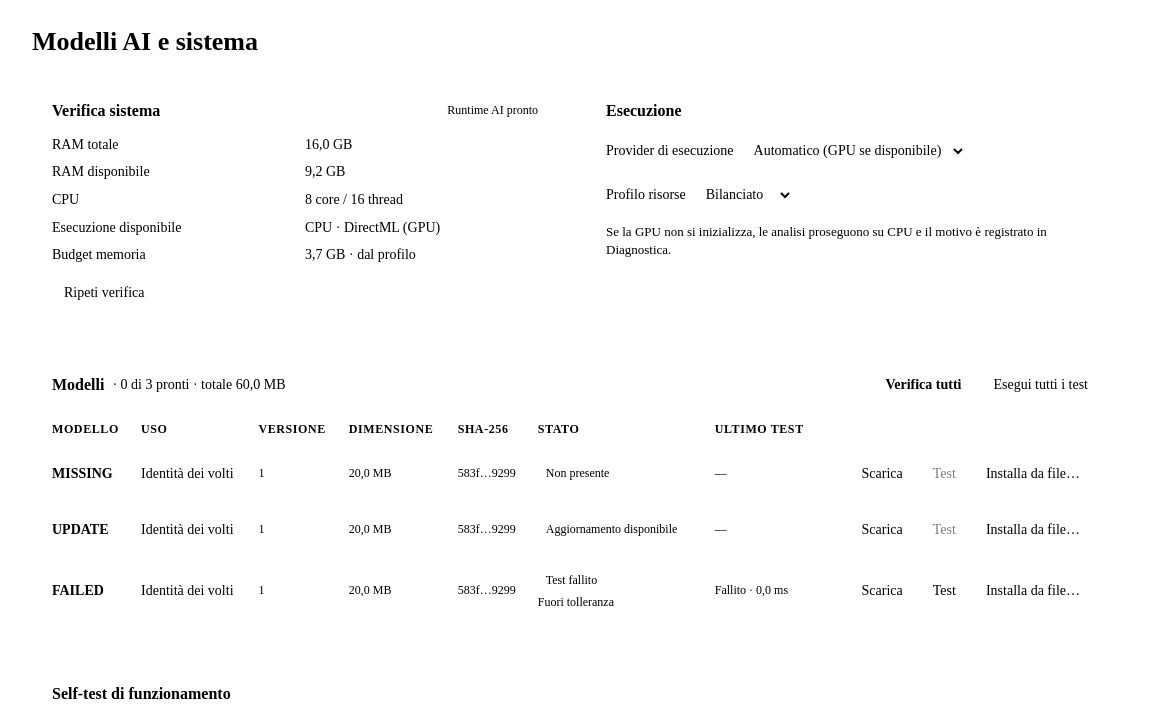
Test: Modelli AI e sistema › mostra stati mancanti, aggiornamenti e test falliti con azioni coerenti
expect the row with test id "model-missing" shows "Non presente": met, box [546, 466, 609, 480]
expect the button "Test" in the row of "MISSING" is disabled: met, box [921, 458, 968, 490]
Step 1. Click the button "Test" in the row of "Test fallito" → coordinates (944, 590), box [921, 574, 968, 606]
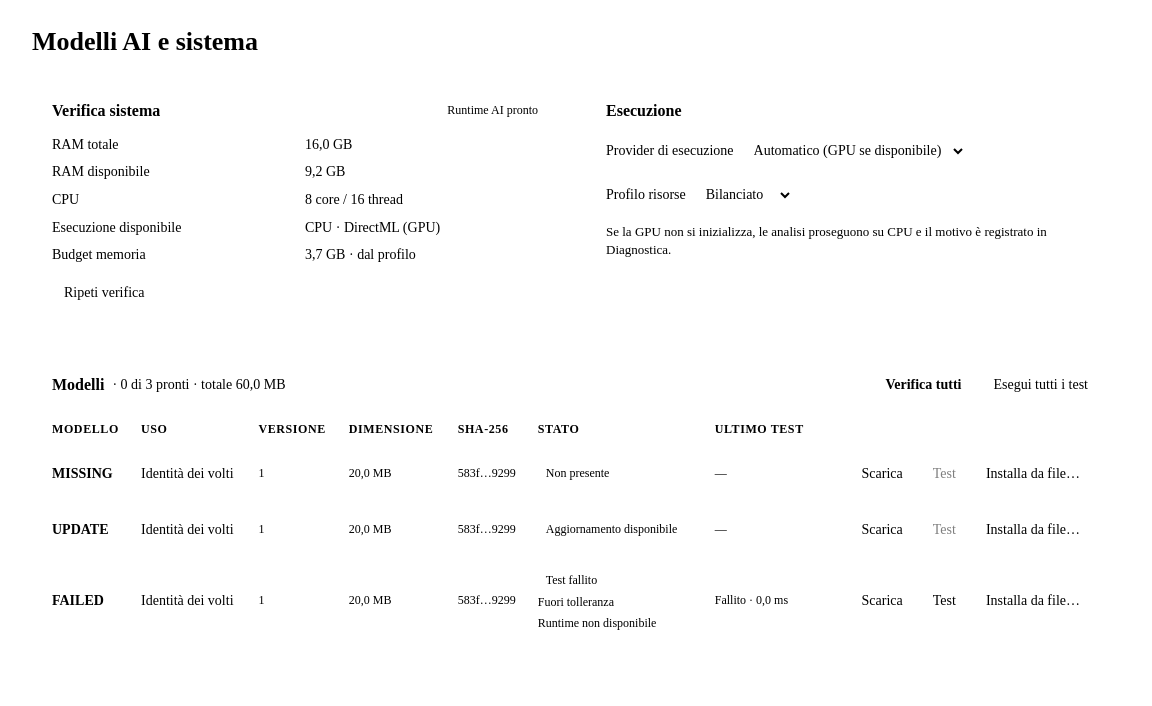
expect the message reads "Runtime non disponibile": met, box [538, 616, 656, 630]
